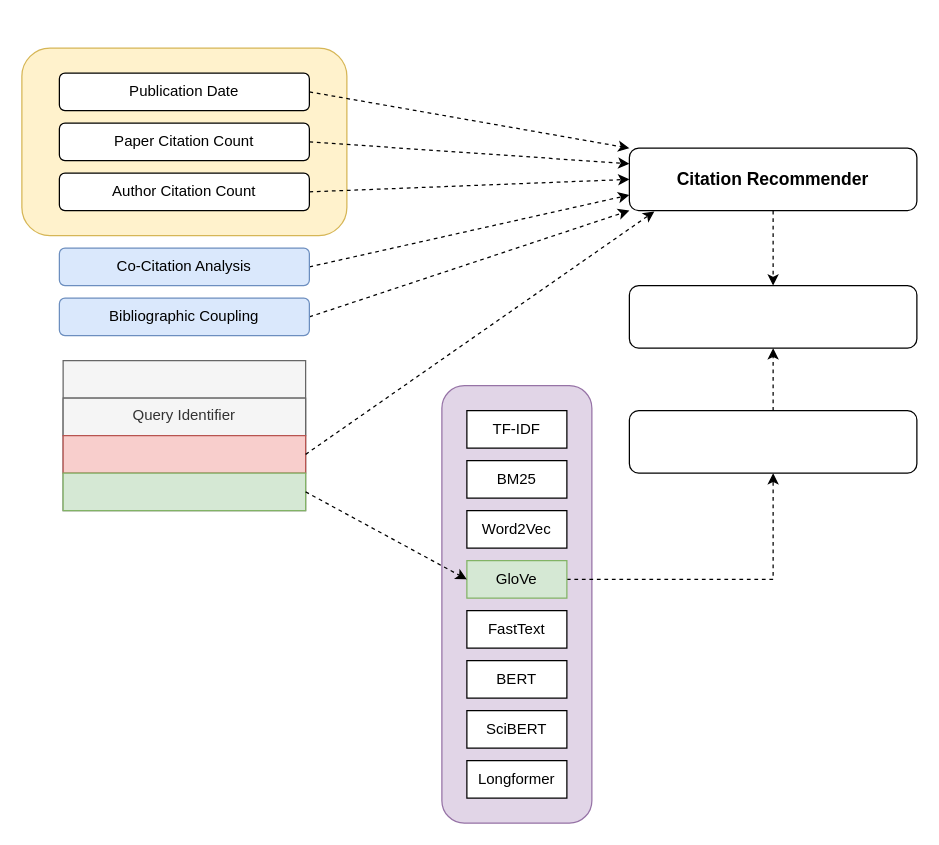
This 939x845 diagram has some shape labels left out. Each missing label, with the box of its shape:
Base Dataset: (21, 47, 347, 236)
Cosine Similarities: (441, 384, 592, 823)
Feature Weights: (62, 434, 306, 473)
Hybrid Recommender: (628, 284, 917, 348)
Language Model: (62, 472, 306, 511)
Language Recommender: (628, 409, 917, 473)
User Inputs: (62, 359, 306, 511)
